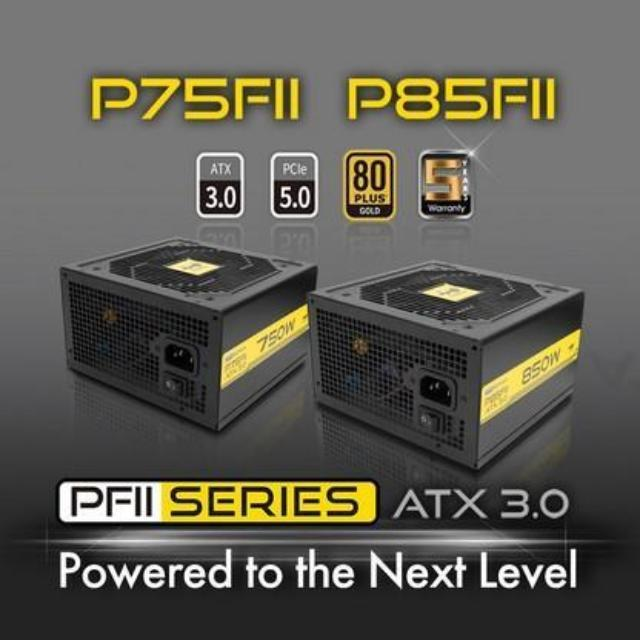PSU: (306, 252, 588, 476), (56, 234, 318, 434)
